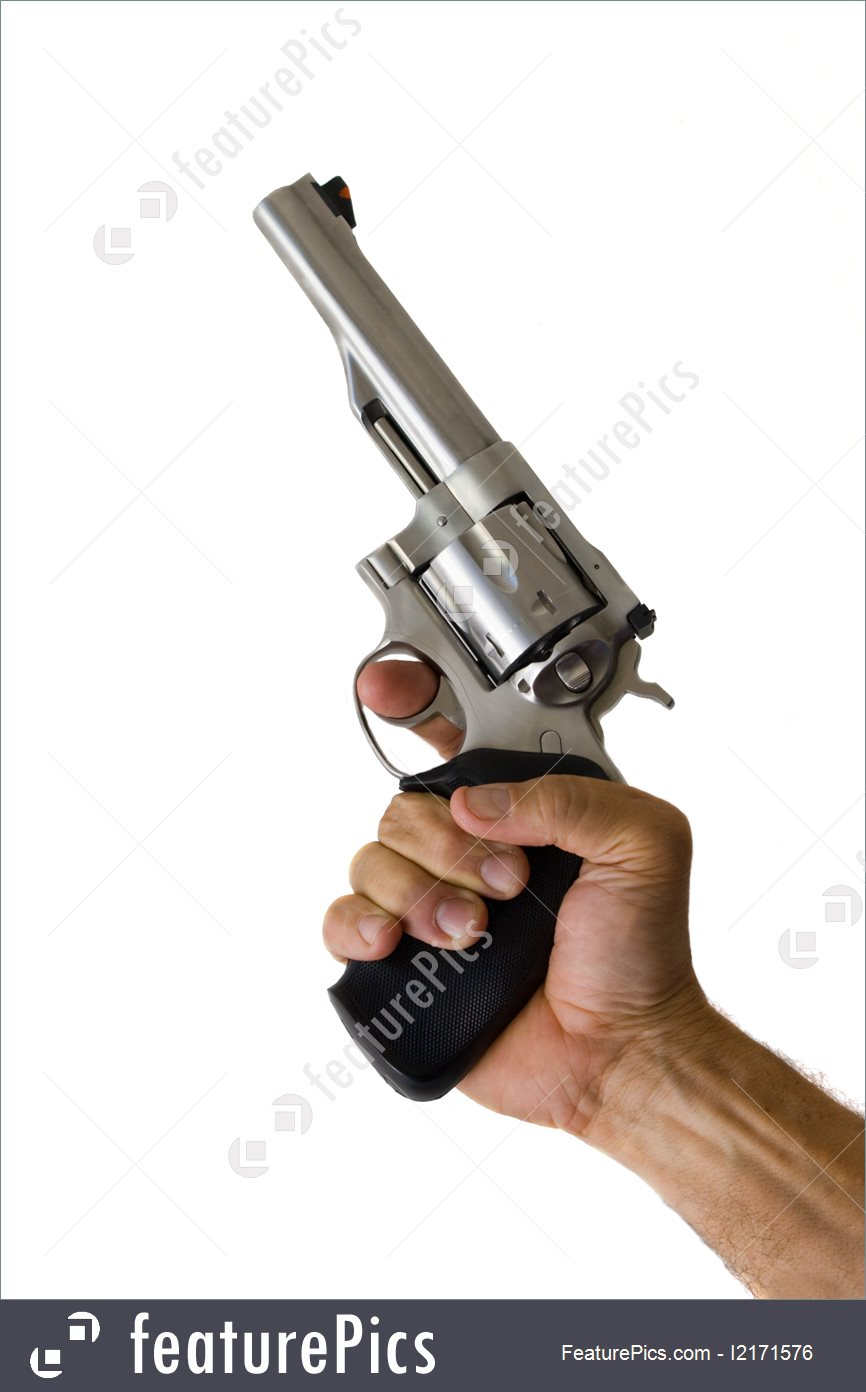Revolver: (176, 117, 681, 1081)
